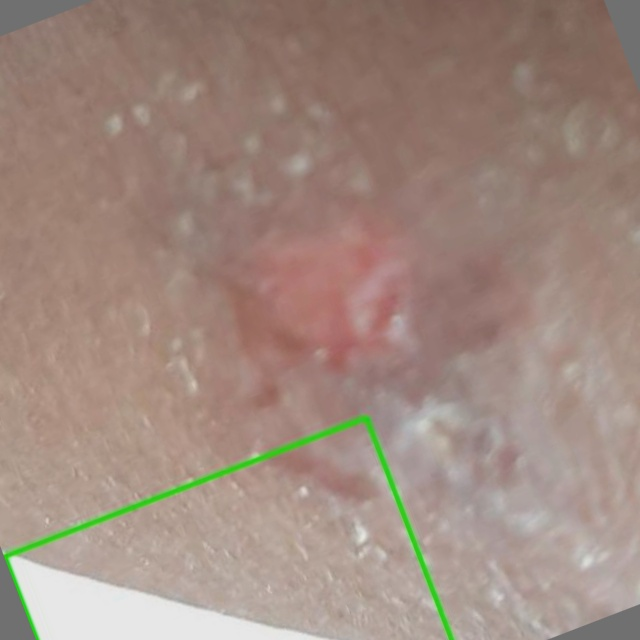Eczema: (4, 417, 451, 639)
